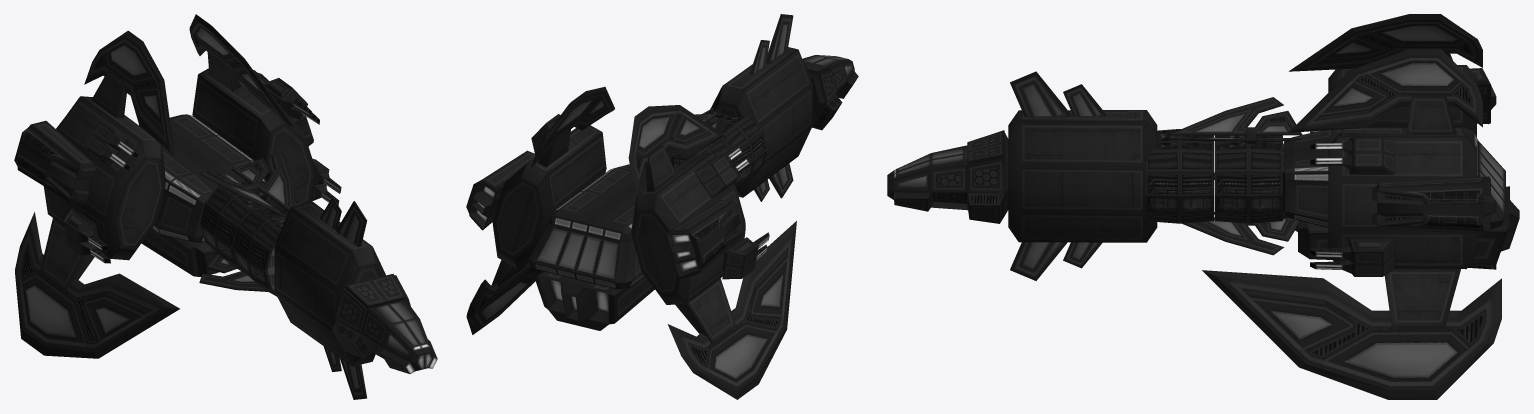
The model's file is astraTalonFleet_FrigateA.FBX.
3 views of the same model, side by side, from view 1: azimuth 30°, elevation 25°; view 2: azimuth 150°, elevation 25°; view 3: azimuth 270°, elevation 25° (orthographic). The views are drawn at different scales.
Visible parts, largest first — view 1: FrigateAModel; view 2: FrigateAModel; view 3: FrigateAModel.
Boxes of the visible parts, x1,y1,x2,y2 form: FrigateAModel: (14,14,437,399); FrigateAModel: (466,14,858,399); FrigateAModel: (887,14,1519,399).
Size of the model in its own units: 519 by 944 by 487.
